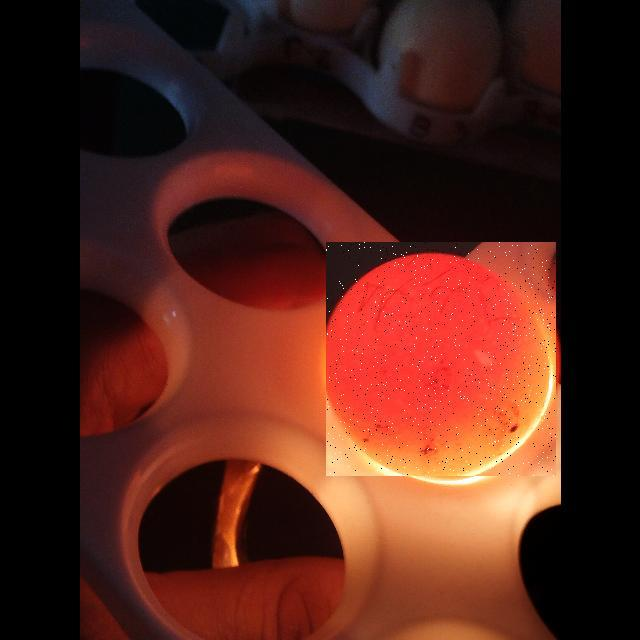Infertile: (326, 242, 556, 476)
